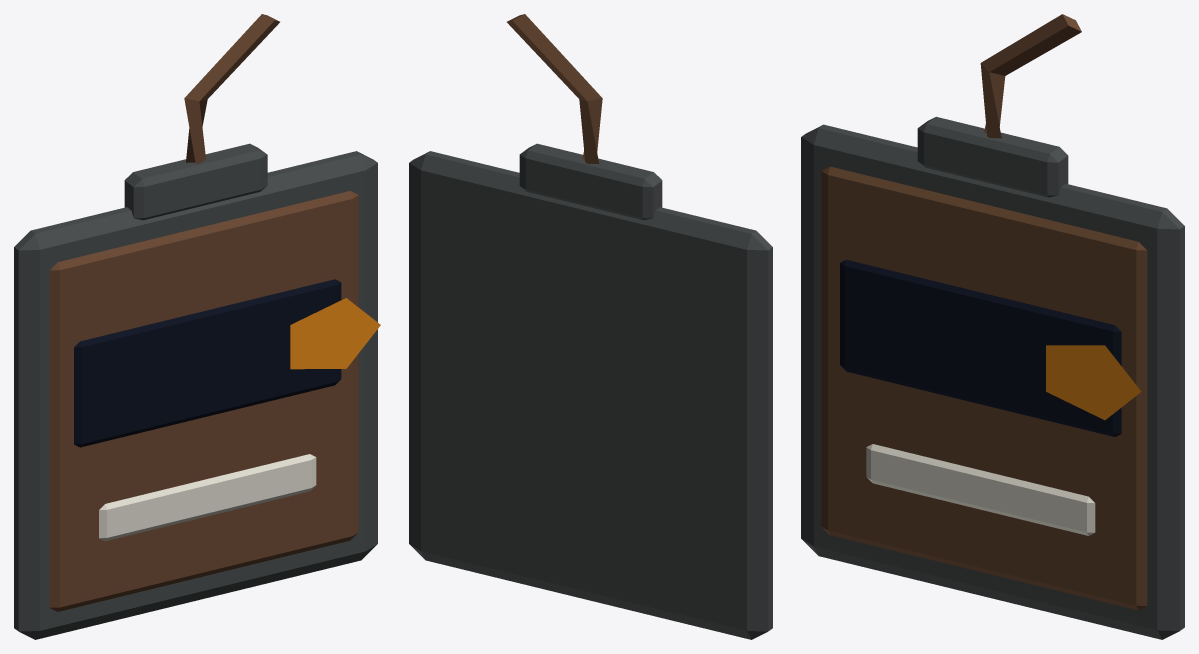
File: badge_noho.glb
The picture shows the model from 3 angles, left to right: view 1: azimuth 30°, elevation 25°; view 2: azimuth 150°, elevation 25°; view 3: azimuth 330°, elevation 25°; orthographic projection. The views are drawn at different scales.
Parts seen in each view (by area): view 1: Cara del gafete, Cuerpo gafete, Pantalla, Placa nombre, Pinza, Pétalo, Cordón; view 2: Cuerpo gafete, Pinza, Cordón; view 3: Cara del gafete, Cuerpo gafete, Pantalla, Placa nombre, Pinza, Pétalo, Cordón.
Boxes of the visible parts, x1,y1,x2,y2 form: Cara del gafete: (49,191,358,611); Cuerpo gafete: (14,151,377,639); Pantalla: (74,279,341,447); Placa nombre: (99,454,316,541); Pinza: (124,143,267,220); Pétalo: (290,298,380,369); Cordón: (184,14,279,163); Cuerpo gafete: (409,151,772,639); Pinza: (519,143,662,220); Cordón: (507,14,602,164); Cara del gafete: (821,166,1147,610); Cuerpo gafete: (801,124,1184,639); Pantalla: (840,259,1121,436); Placa nombre: (866,444,1095,535); Pinza: (917,116,1068,197); Pétalo: (1046,345,1141,420); Cordón: (980,14,1081,138).
Size of the model in its own units: 0.086 by 0.13 by 0.012.
